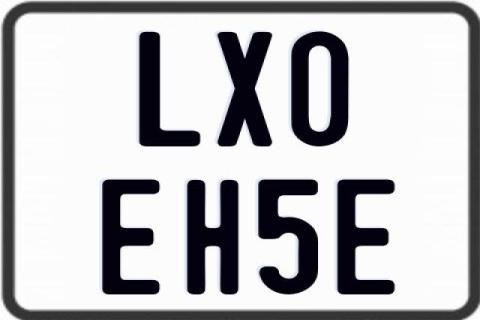0: (255, 179, 318, 296), (289, 30, 351, 146)
E: (101, 177, 165, 295), (336, 179, 394, 297)
H: (186, 180, 236, 294)
L: (136, 29, 200, 149)
X: (214, 31, 272, 149)
